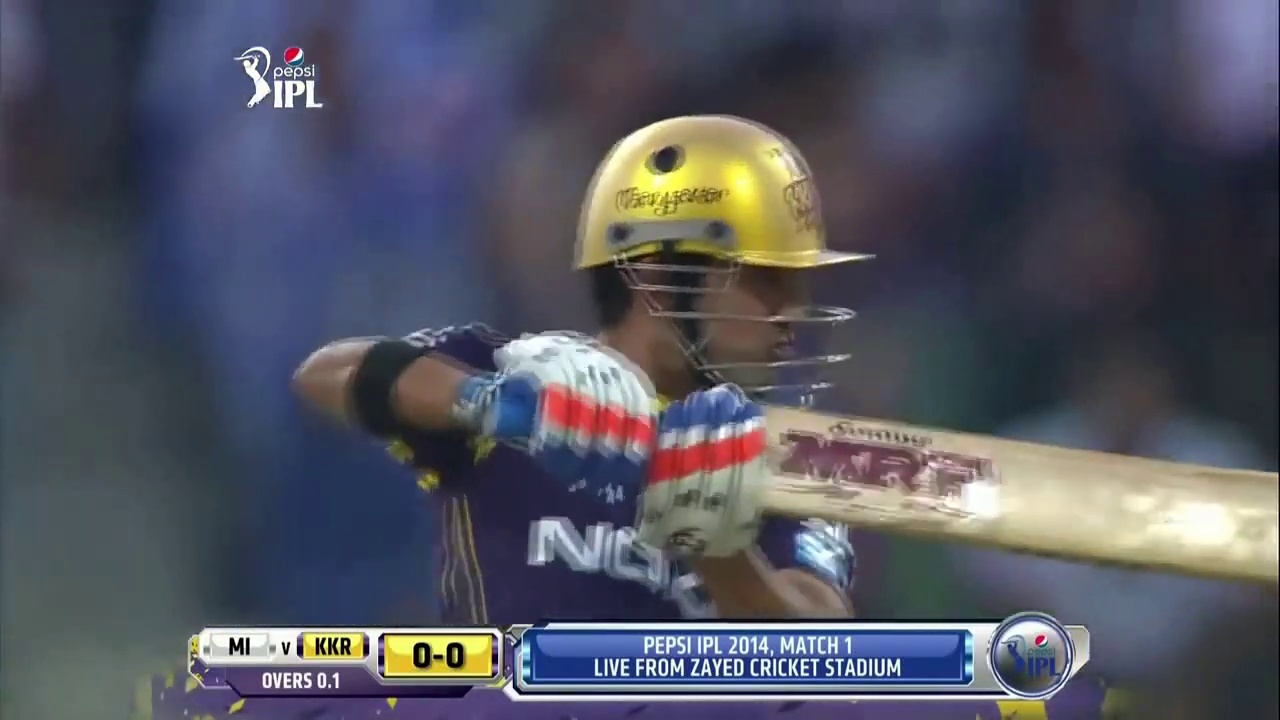bat: (769, 404, 1280, 585)
